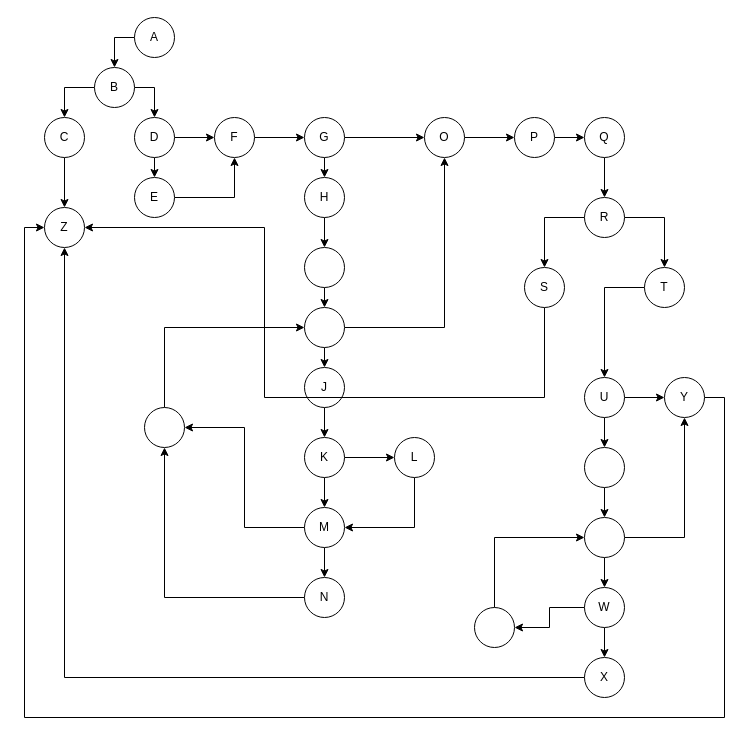
Some shapes in this 750 by 743 pixel diagram are drawn without their labels. Here are the shapes that lost their labels. From the top down, the centre of each, then its label:
pixel 324 267: I1
pixel 324 327: I2
pixel 164 427: I3
pixel 604 467: V1
pixel 604 537: V2
pixel 494 627: V3
